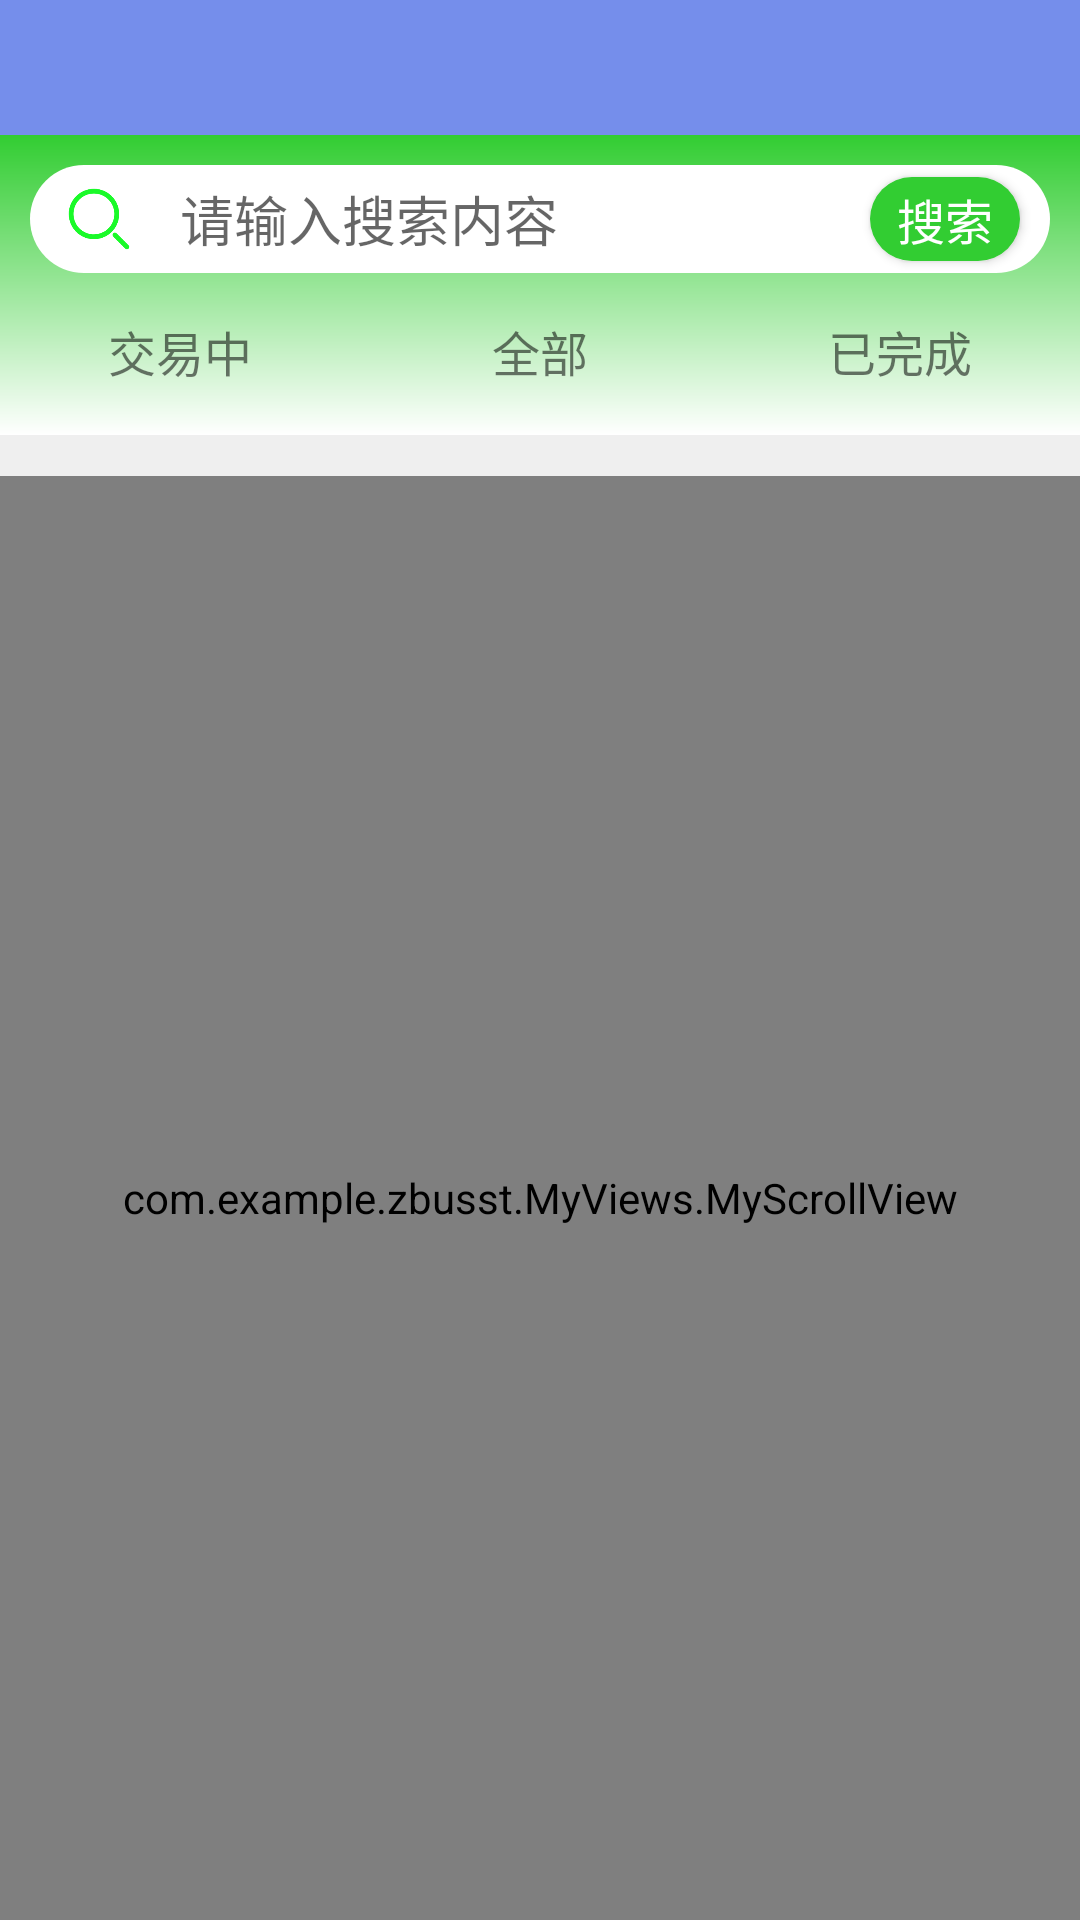

Screen size 1080 x 1920. Icon name, then its box in pixels as box=[x1, y1, x2, y2]:
searchfangda: box=[68, 188, 130, 249]
